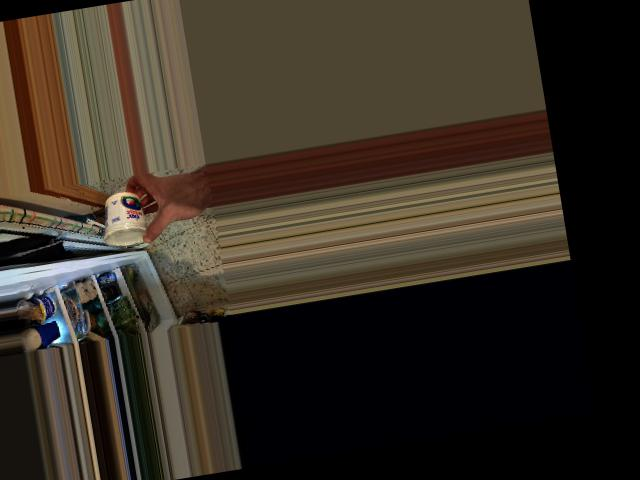cotage: (97, 186, 150, 249)
